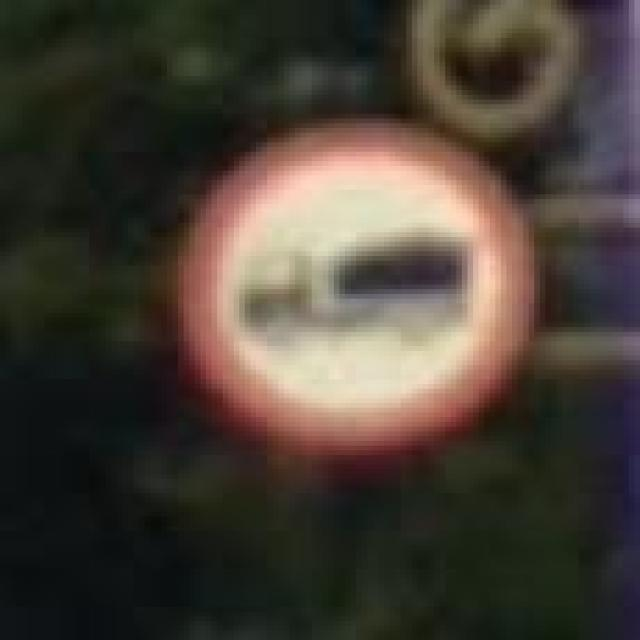traffic_sign: (172, 114, 540, 460)
